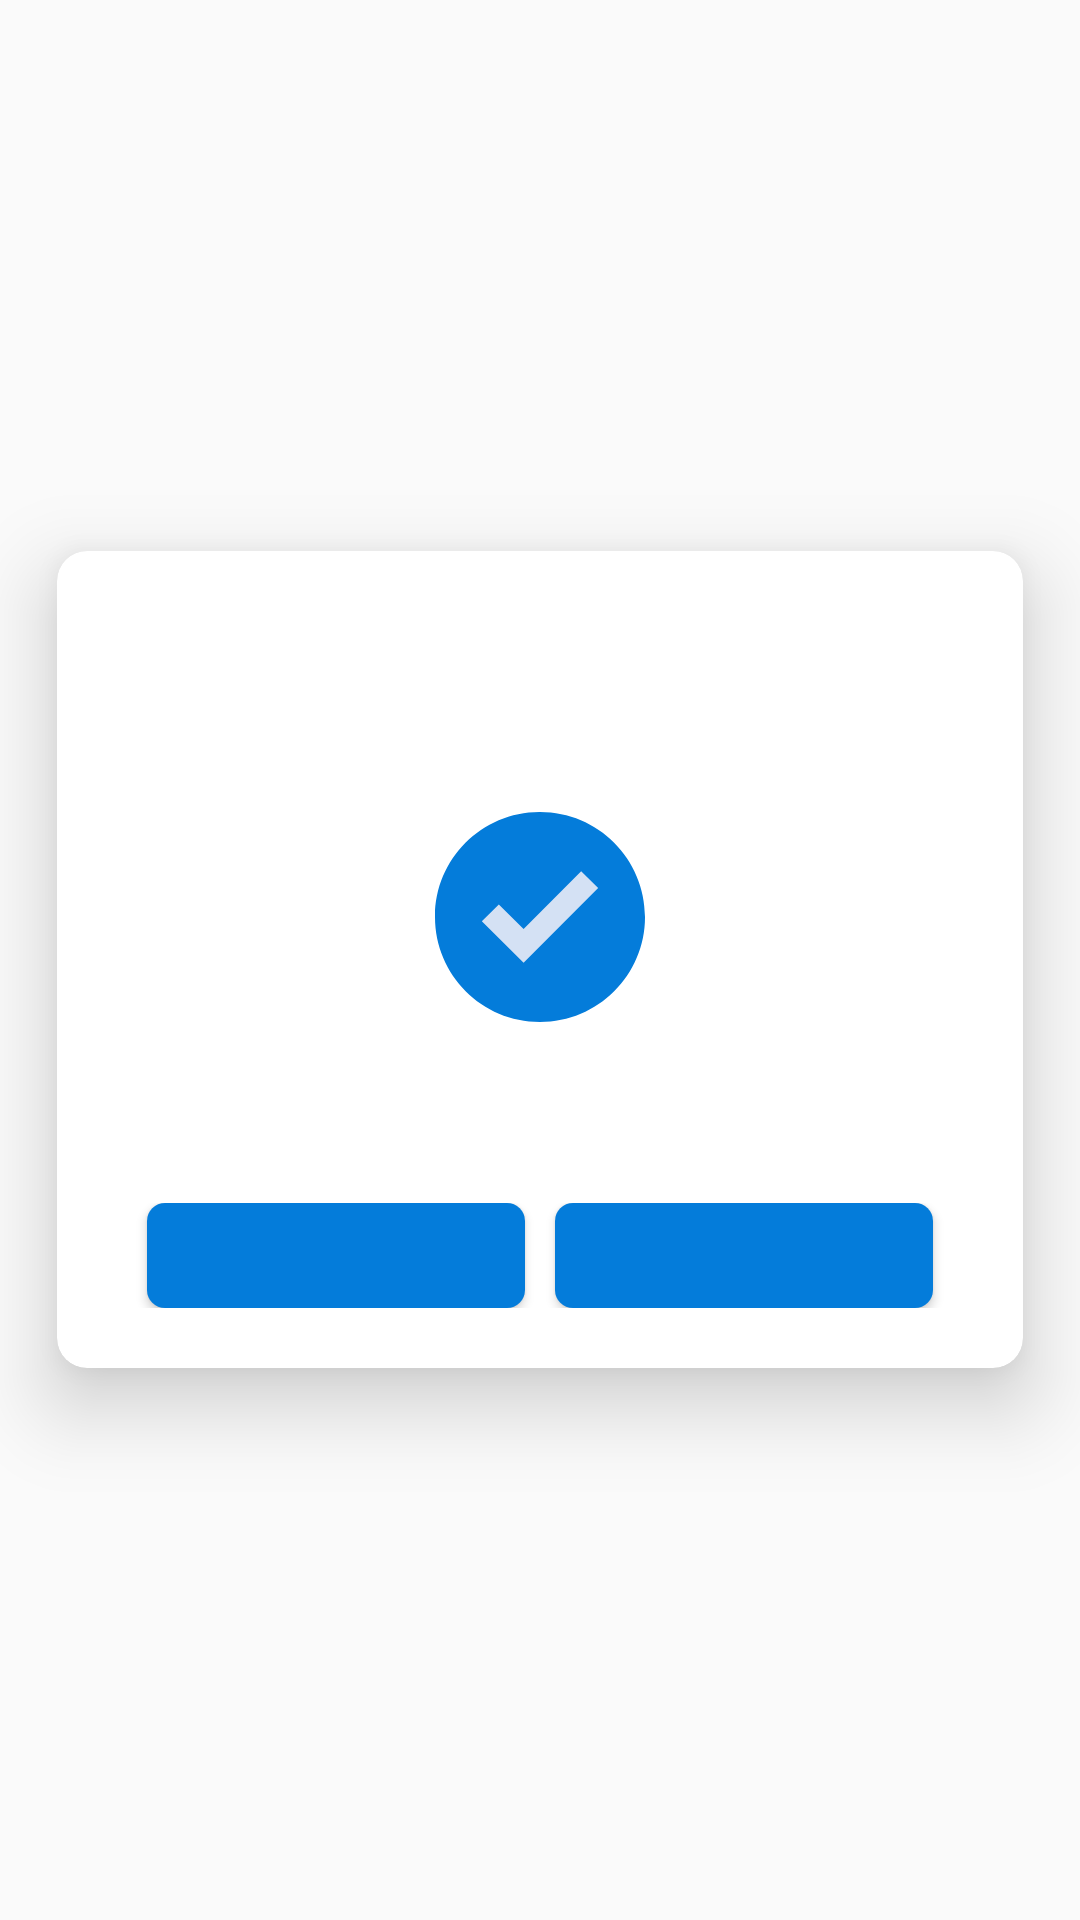

Icons on this 1080x1920 Android screen, each with the point to tap as [x,y]:
success check: [540,917]
